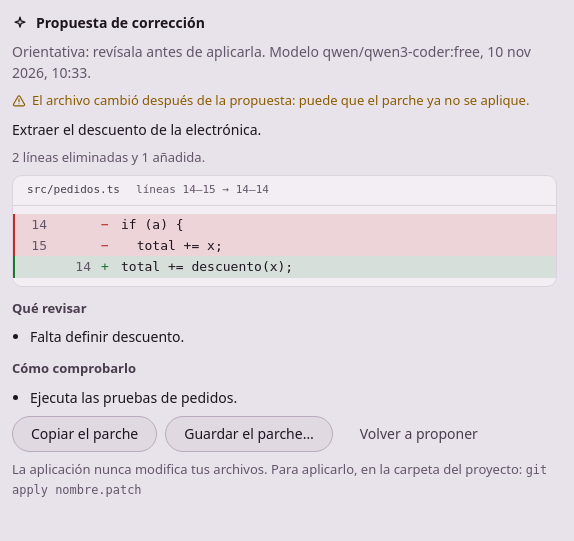
Test case: Propuesta de corrección › una propuesta guardada se ve al abrir; el parche se copia o se guarda, nunca se aplica
Expected: the text "El archivo cambió después de la propuesta" is shown, [32, 91, 529, 109]
Step 1. Click the button "Copiar el parche" → point(85, 434), box [12, 416, 157, 452]
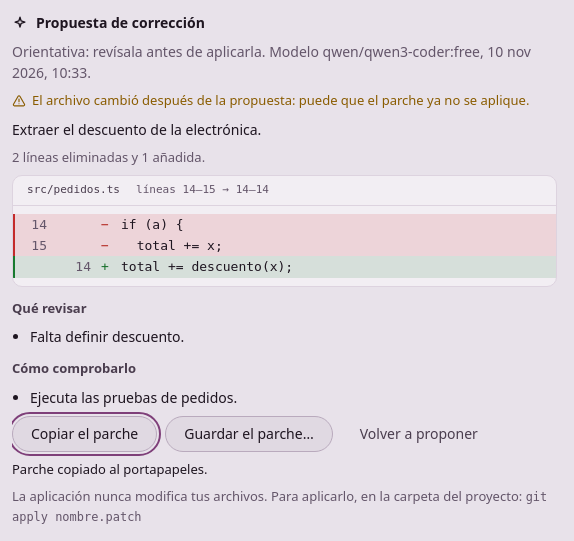
Step 2. Click the button "Guardar el parche…" → point(249, 434), box [165, 416, 333, 452]
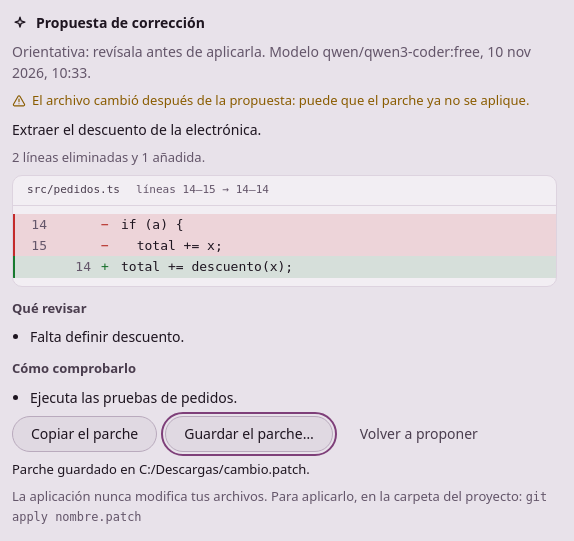
Expected: the text "Parche guardado en C:/Descargas/cambio.patch." is shown, [12, 460, 310, 478]
